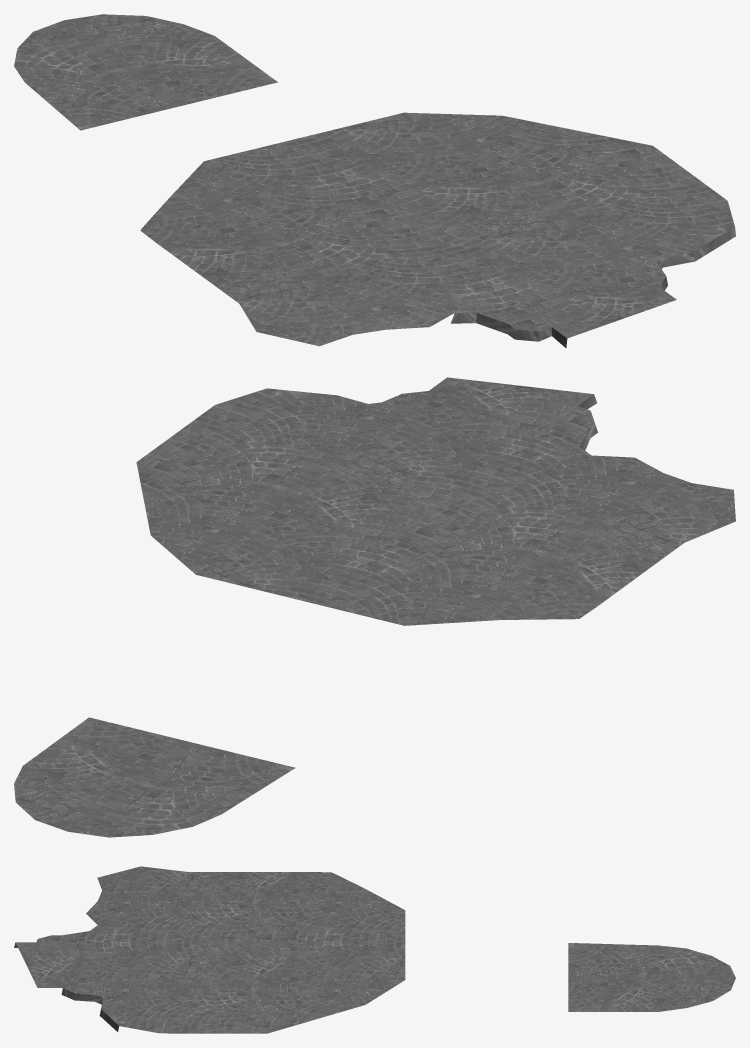
File: jjc_dimian_001.FBX
The picture shows the model from 3 angles, top to bottom: view 1: azimuth 30°, elevation 25°; view 2: azimuth 150°, elevation 25°; view 3: azimuth 270°, elevation 25°; orthographic projection. The views are drawn at different scales.
Visible parts, largest first — view 1: jjc_dimian_001; view 2: jjc_dimian_001; view 3: jjc_dimian_001.
Boxes of the visible parts, <box> form: jjc_dimian_001: <box>14,14,735,347</box>; jjc_dimian_001: <box>14,377,735,837</box>; jjc_dimian_001: <box>14,866,735,1033</box>.
Size of the model in its own units: 2027 by 200 by 3651.
